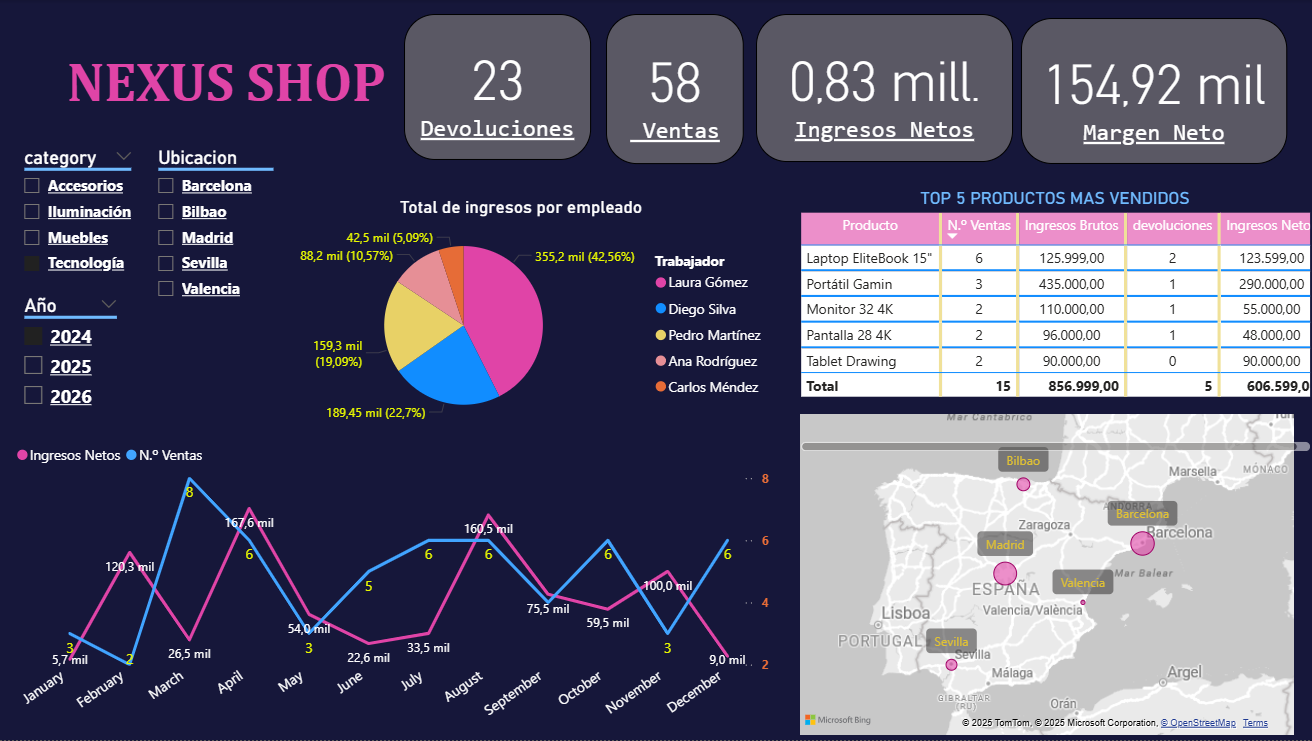

Layout of this report page (visuals, bound fields, positions):
{"tool":"powerbi","page":{"name":"Página 1","canvas":[1280,720],"ordinal":0},"visuals":[{"type":"card","fields":{"Values":["Sum(Consulta1.ingresos_netos)"]},"box":[736.3,13.6,250,144],"z":0},{"type":"card","fields":{"Values":["Sum(Consulta1.margen_neto)"]},"box":[994,17.5,258.7,142],"z":1000},{"type":"lineChart","fields":{"Y2":["Sum(Consulta1.total_ventas)"],"Category":["Consulta1.mes","Consulta1.numero_mes"],"Y":["Sum(Consulta1.ingresos_netos)"]},"box":[11.7,422.1,743.1,297.6],"z":2000},{"type":"slicer","fields":{"Values":["TablaCalendario.Año"]},"box":[11.3,281,115.9,130.3],"z":3000},{"type":"card","fields":{"Values":["Sum(Consulta1.total_ventas)"]},"box":[590.4,13.6,134.2,145.9],"z":4000},{"type":"slicer","fields":{"Values":["Consulta1.category"]},"box":[11.3,137.4,130.3,143.6],"z":5000},{"type":"card","fields":{"Values":["Sum(Consulta1.total_devoluciones)"]},"box":[393.9,13.6,181.9,142],"z":6000},{"type":"pieChart","title":"Total de ingresos por empleado","fields":{"Category":["Consulta1.employee_name"],"Y":["Sum(Consulta1.ingresos_netos)"]},"box":[260.5,191.8,494.4,230.8],"z":7000},{"type":"slicer","fields":{"Values":["Consulta1.store_location"]},"box":[141.5,137.4,138.5,175.4],"z":8000},{"type":"map","fields":{"Category":["Consulta1.Ubicacion"],"Size":["Sum(Consulta1.ingresos_netos)"]},"box":[774.4,397.9,490.3,322.1],"z":9000},{"type":"tableEx","title":"TOP 5 PRODUCTOS MAS VENDIDOS","fields":{"Values":["Consulta1.product_name","Sum(Consulta1.total_ventas)","Sum(Consulta1.total_ingresos_brutos)","Sum(Consulta1.total_devoluciones)","Sum(Consulta1.ingresos_netos)"]},"box":[774.4,182.6,505.6,260.5],"z":10000},{"type":"textbox","box":[34.9,42.1,372.3,83.1],"z":11000}]}

Visuals, with their boxes in screenshot pixels (x1, y1, x2, y2), scaled from the page's 1280x720 canvas onto the 1312x741 screenshot:
card - Sum(Consulta1.ingresos_netos): <region>755, 14, 1011, 162</region>
card - Sum(Consulta1.margen_neto): <region>1019, 18, 1284, 164</region>
lineChart - Sum(Consulta1.total_ventas) x Consulta1.mes: <region>12, 434, 774, 740</region>
slicer - TablaCalendario.Año: <region>12, 289, 130, 423</region>
card - Sum(Consulta1.total_ventas): <region>605, 14, 743, 164</region>
slicer - Consulta1.category: <region>12, 141, 145, 289</region>
card - Sum(Consulta1.total_devoluciones): <region>404, 14, 590, 160</region>
"Total de ingresos por empleado" pieChart: <region>267, 197, 774, 435</region>
slicer - Consulta1.store_location: <region>145, 141, 287, 322</region>
map - Consulta1.Ubicacion x Sum(Consulta1.ingresos_netos): <region>794, 410, 1296, 740</region>
"TOP 5 PRODUCTOS MAS VENDIDOS" tableEx: <region>794, 188, 1311, 456</region>
textbox: <region>36, 43, 417, 129</region>
